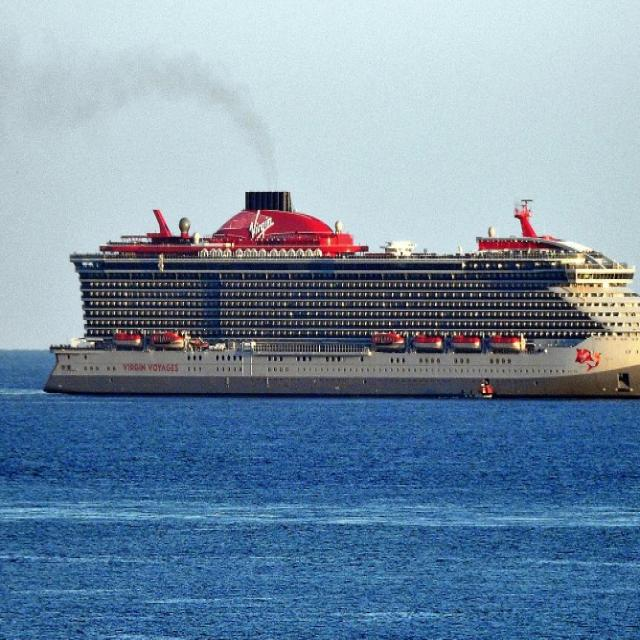cruises: (36, 184, 640, 408)
